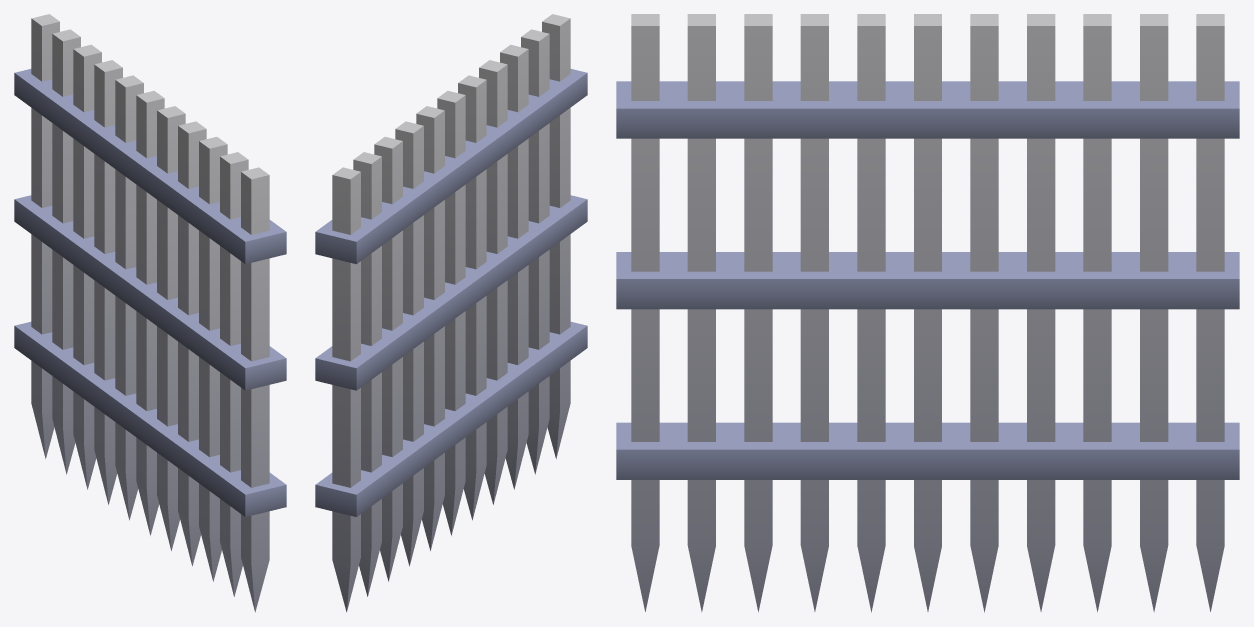
Rendered from metal-gate.glb.
The picture shows the model from 3 angles, left to right: view 1: azimuth 30°, elevation 25°; view 2: azimuth 150°, elevation 25°; view 3: azimuth 270°, elevation 25°; orthographic projection. The views are drawn at different scales.
Parts seen in each view (by area): view 1: metal-gate; view 2: metal-gate; view 3: metal-gate.
Part boxes in pixels (bbox=[...]): metal-gate: bbox=[14, 14, 286, 612]; metal-gate: bbox=[315, 14, 587, 612]; metal-gate: bbox=[616, 14, 1239, 612].
Bounding box in the file's own units: 0.0714 × 0.7301 × 0.6953.
